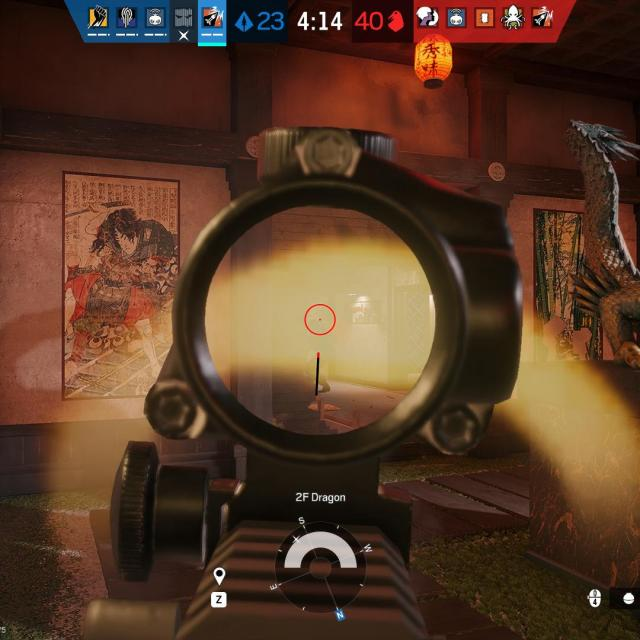Character: (307, 313, 332, 395)
